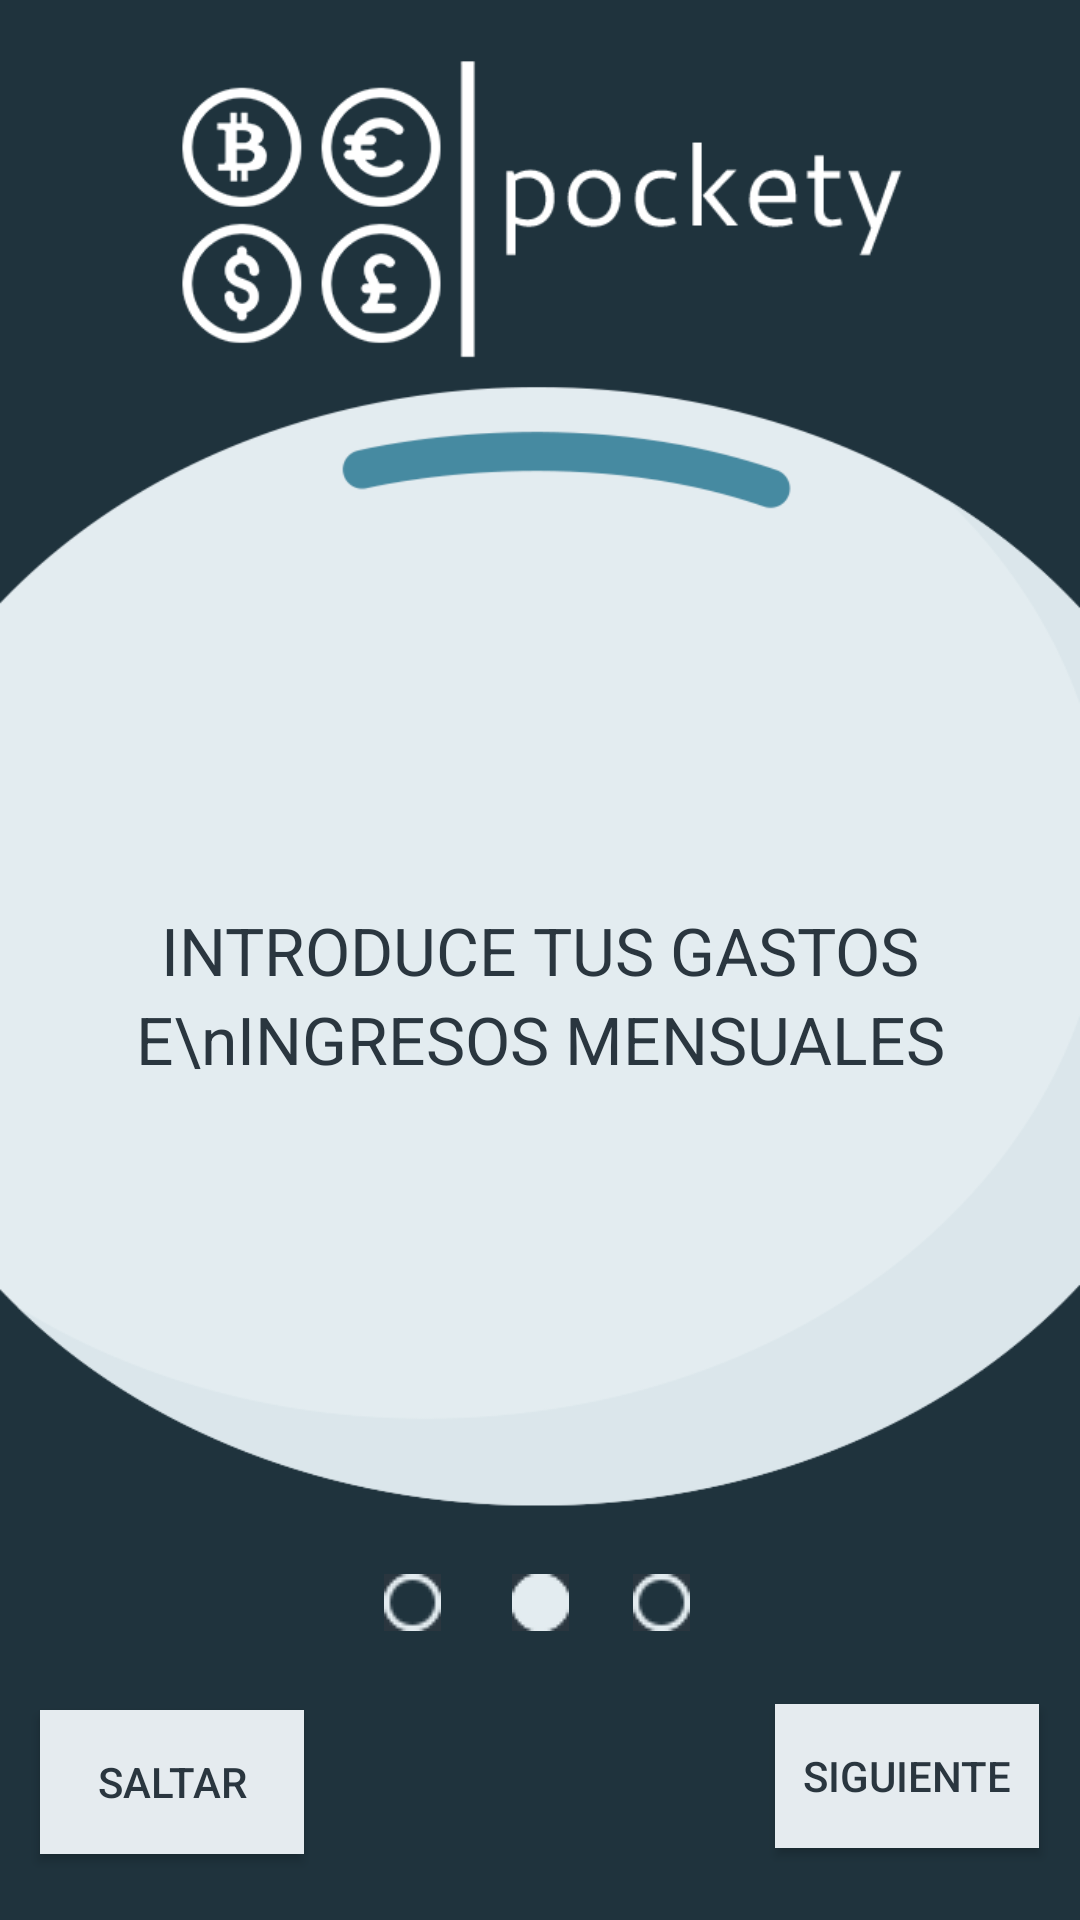

Icon click points for this 1080px×1920px phone screenshot, format (x=x, y=y):
bullet: (x=412, y=1602), (x=540, y=1602), (x=661, y=1602)
